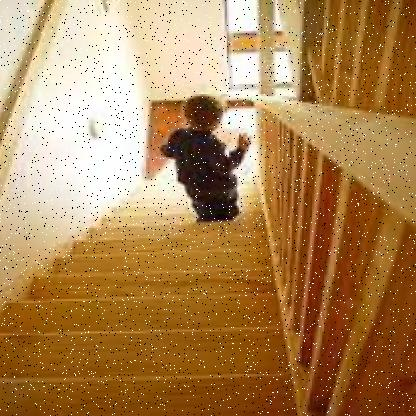stair_down: (0, 258, 280, 406)
